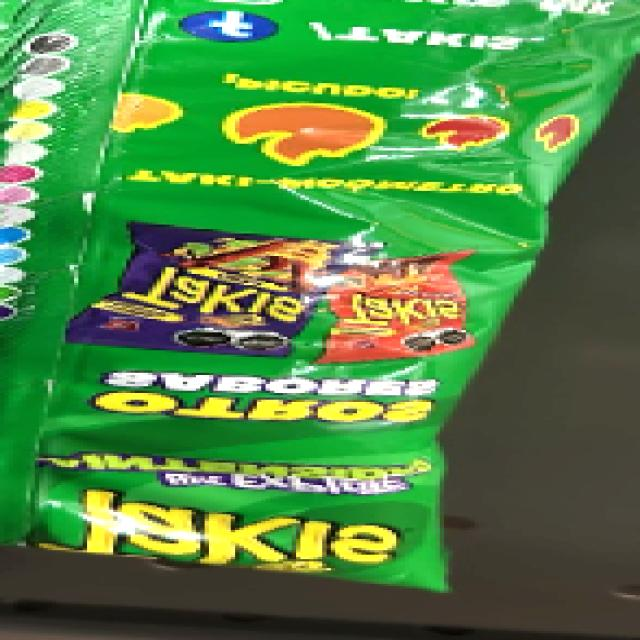productoAtras: (11, 4, 528, 582)
